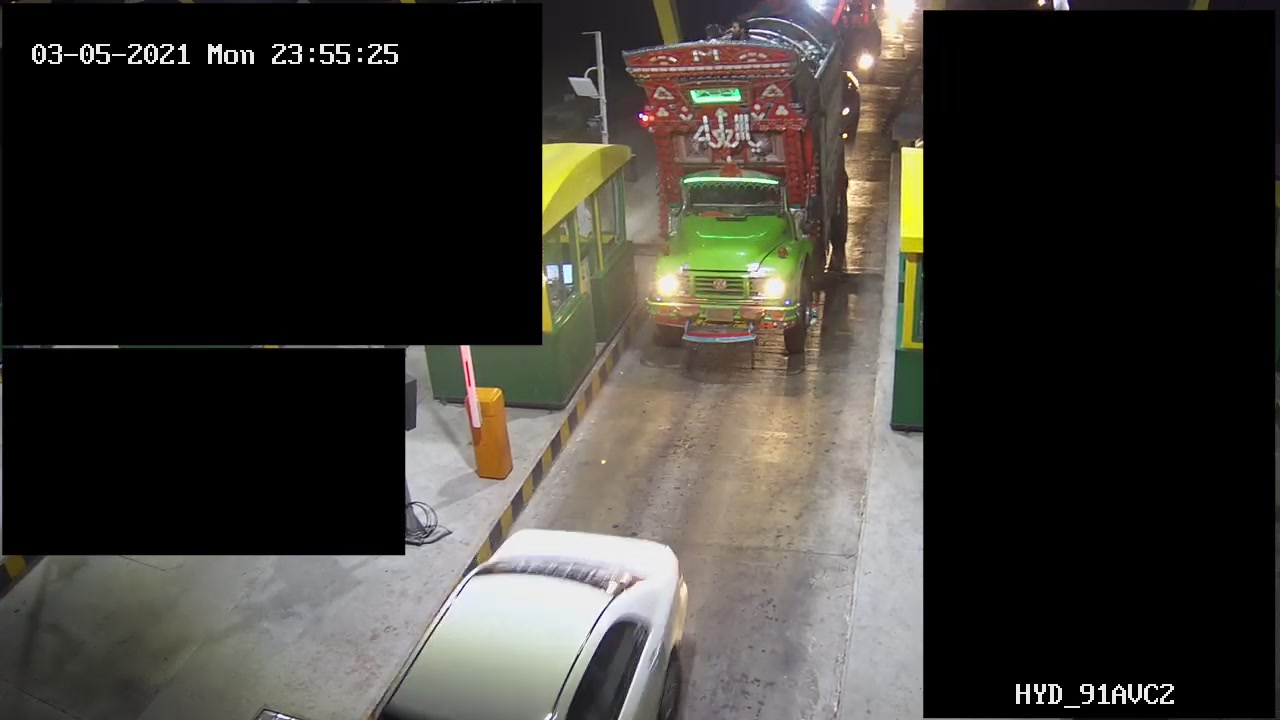F5: (618, 1, 853, 371)
